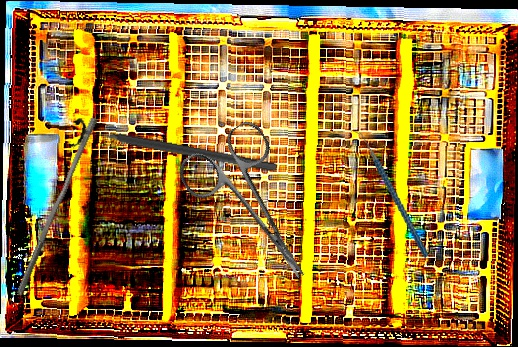Chopper: (349, 118, 429, 267)
Fixation Ring: (68, 116, 280, 184)
Iris Scissors: (172, 116, 339, 304)
Pusher: (15, 113, 99, 300)
